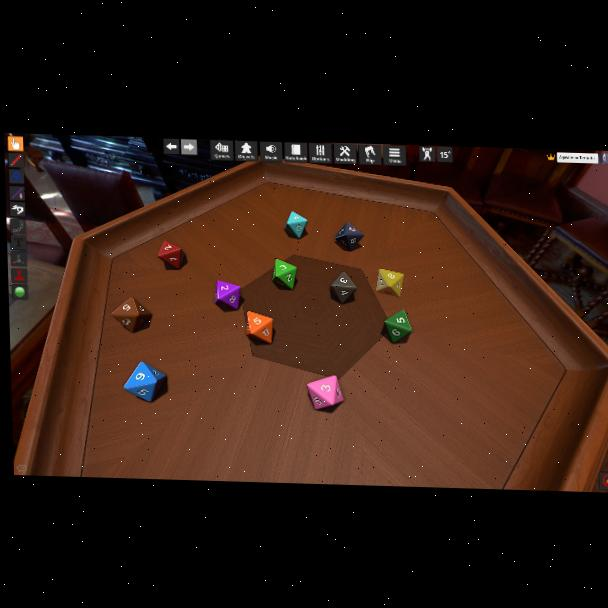d8: (124, 360, 169, 402), (111, 298, 152, 334), (306, 373, 341, 409), (382, 309, 410, 342), (246, 312, 273, 345), (334, 221, 363, 251), (330, 272, 357, 304), (157, 239, 184, 269), (271, 260, 297, 291), (376, 267, 402, 297), (216, 280, 241, 309), (285, 211, 308, 238)
